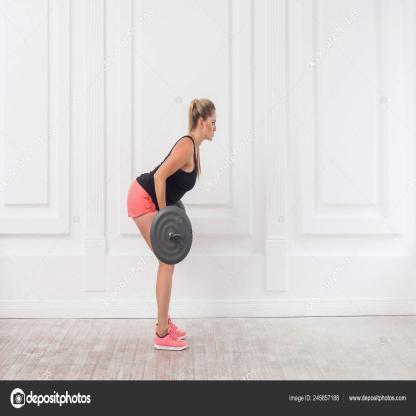barbell: (149, 206, 194, 266)
